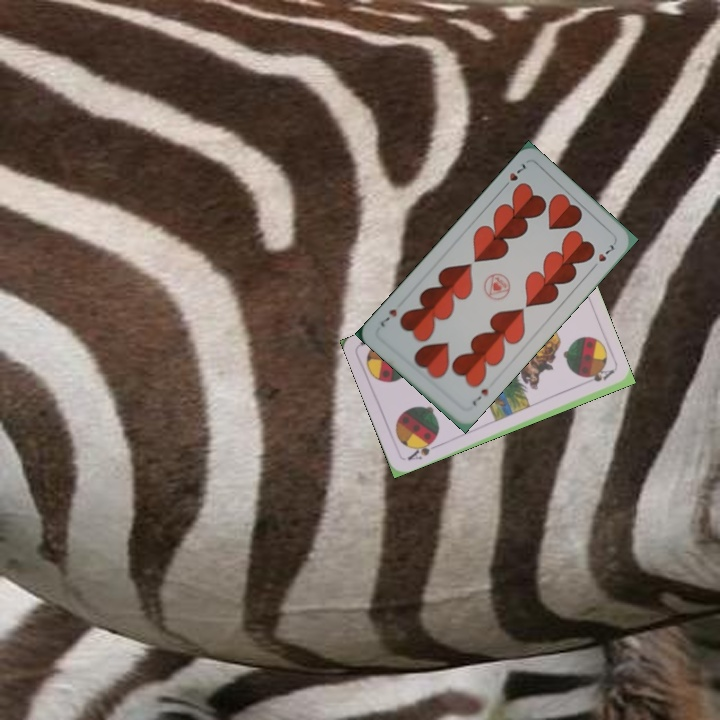H7: (498, 159, 528, 192), (468, 384, 491, 409)
SA: (403, 436, 441, 463)
